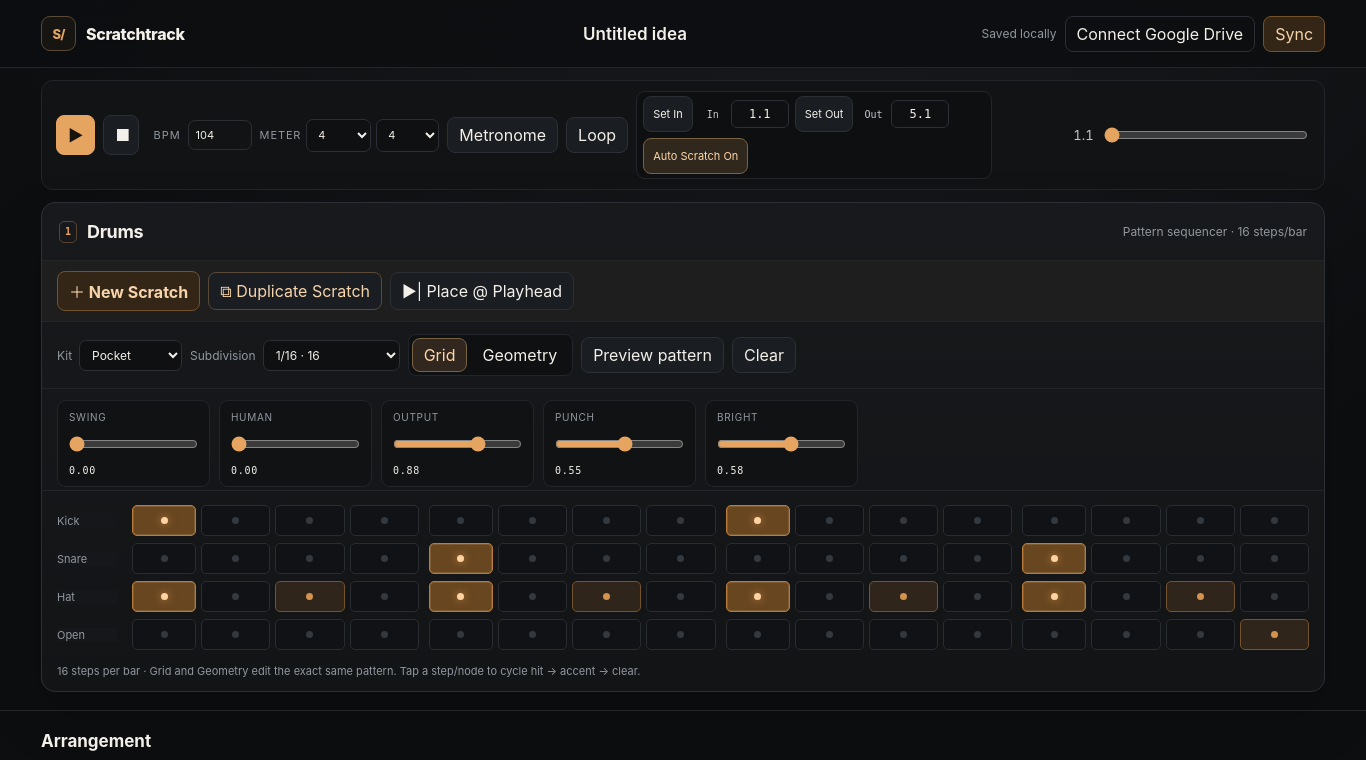
Test case: app shell › switches meter to 7/8 and remaps the grid to 14 steps
Select "7" in the dropdown named "Beats per bar" at (339, 135), box [306, 118, 371, 152]
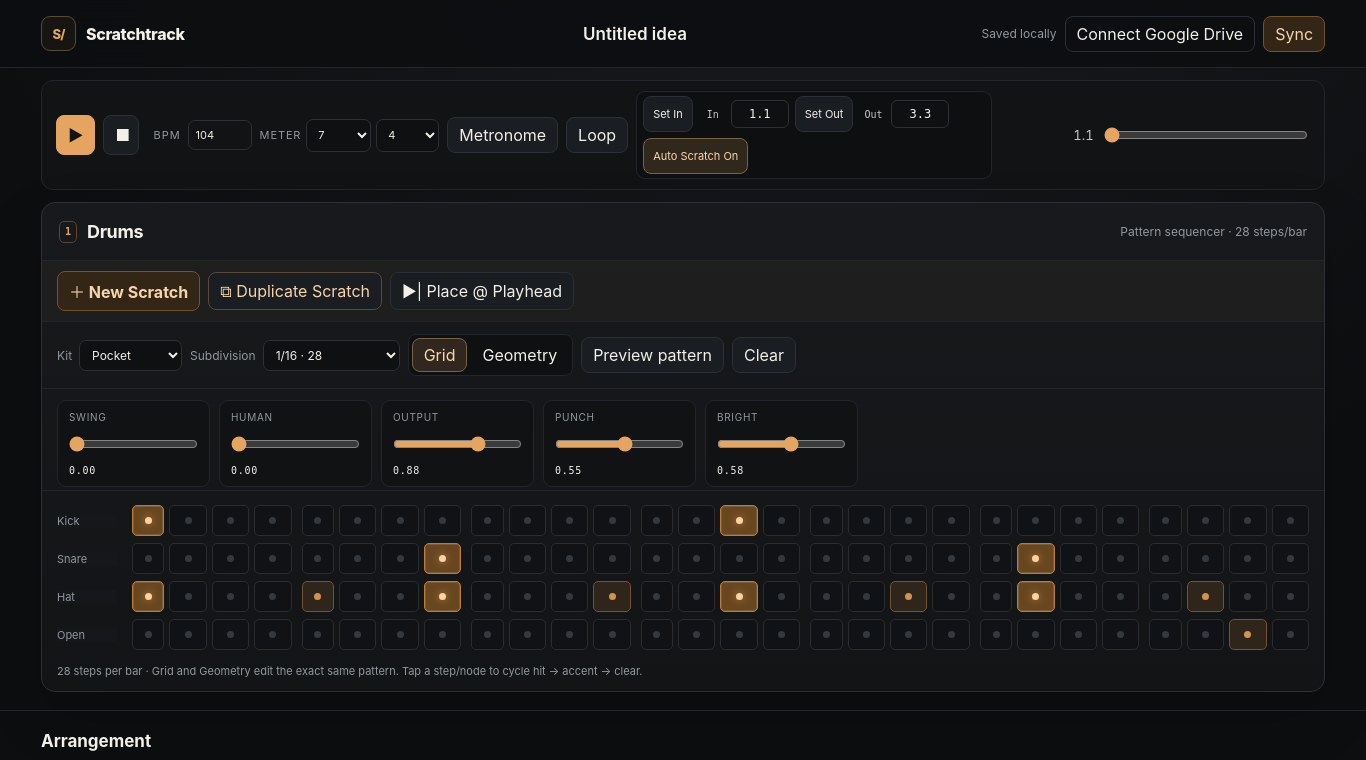
Select "8" in the dropdown named "Note value per beat" at (408, 135), box [376, 118, 439, 152]
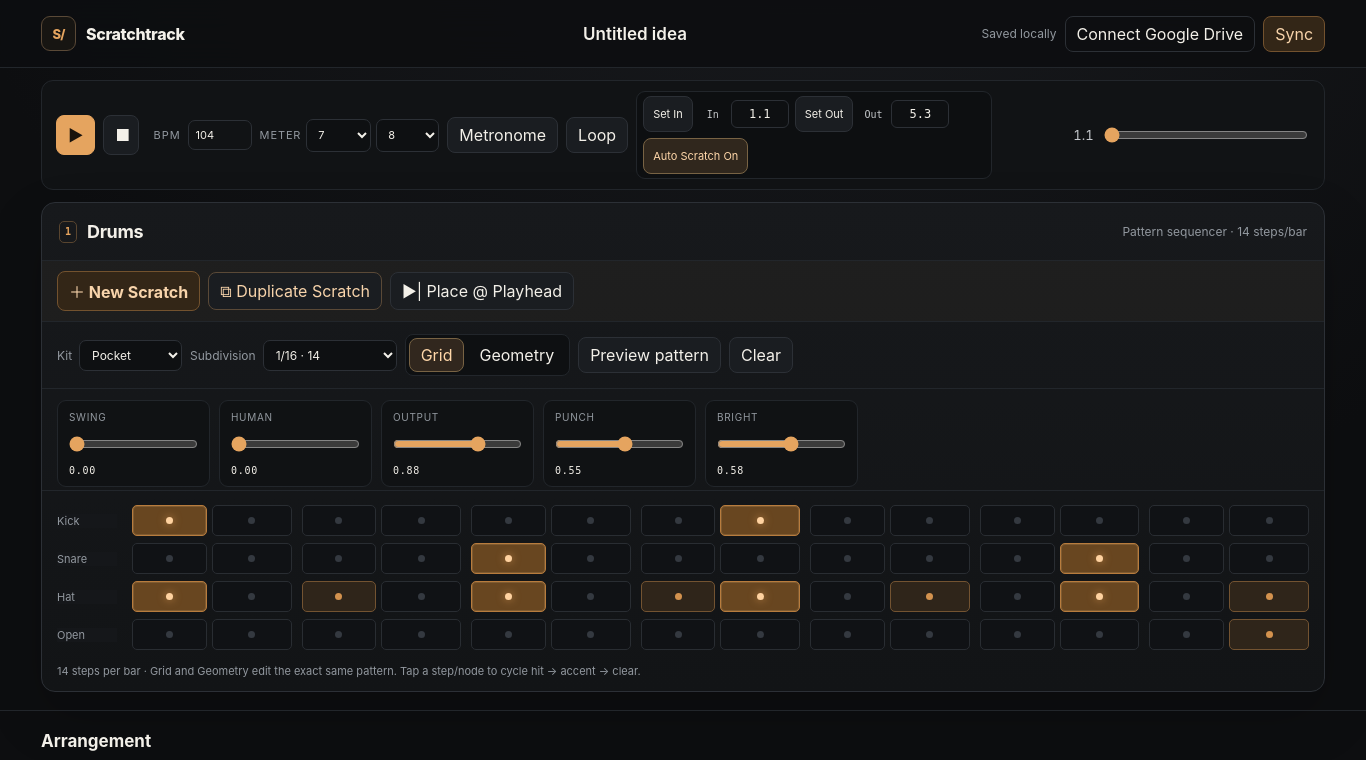
Expected: the button named "Kick step 14" is shown, [1229, 505, 1309, 536]
Now the text "Pattern sequencer · 14 steps/bar" is shown, box [1122, 224, 1307, 239]
